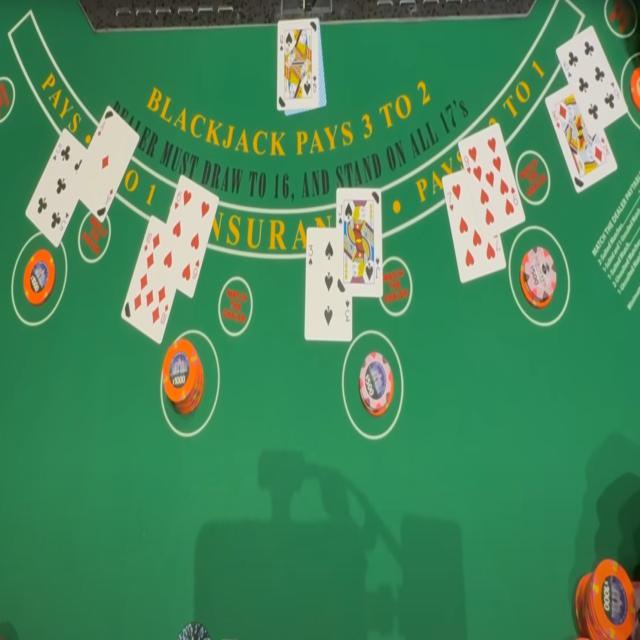10: (146, 230, 152, 244)
3: (308, 242, 314, 258)
5: (56, 142, 62, 154)
6: (175, 189, 182, 203), (563, 59, 569, 72)
7: (446, 190, 452, 204)
9: (463, 154, 470, 167)
A: (100, 118, 106, 132)
J: (338, 203, 343, 217)
K: (551, 109, 559, 122)
Q: (279, 33, 284, 45)
